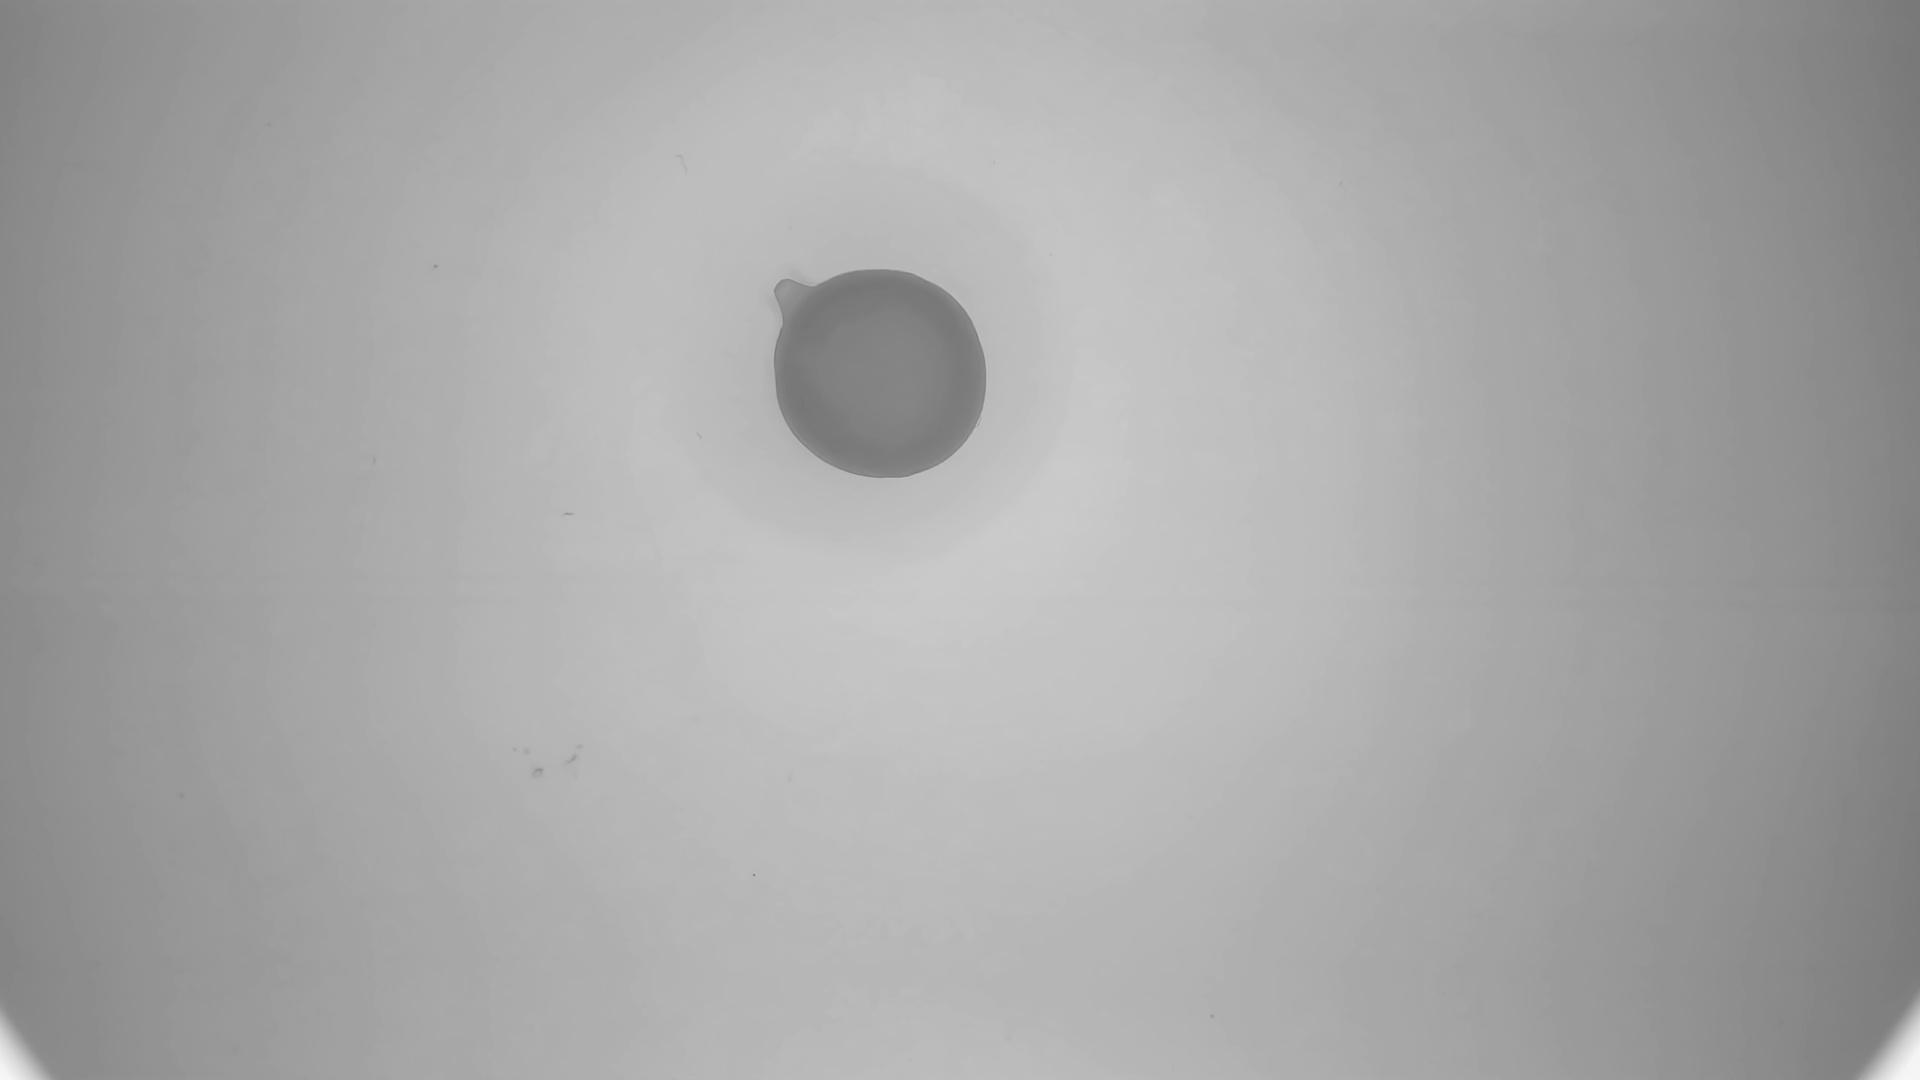abnormal: (773, 266, 992, 483)
